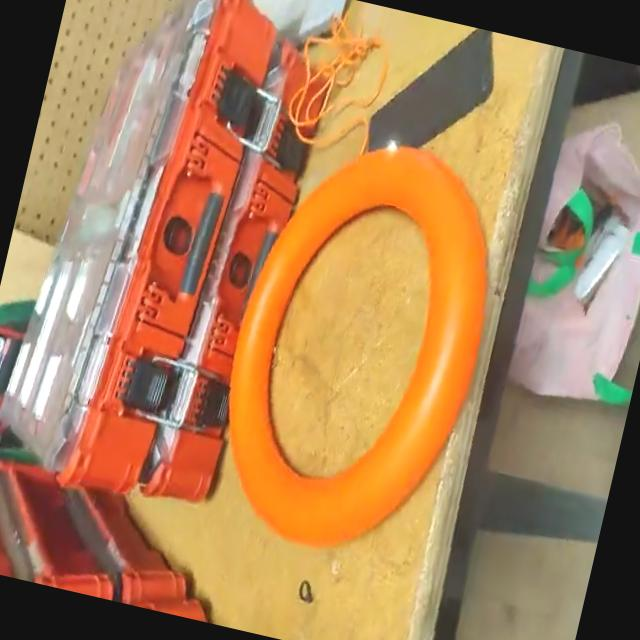note: (188, 120, 520, 576)
